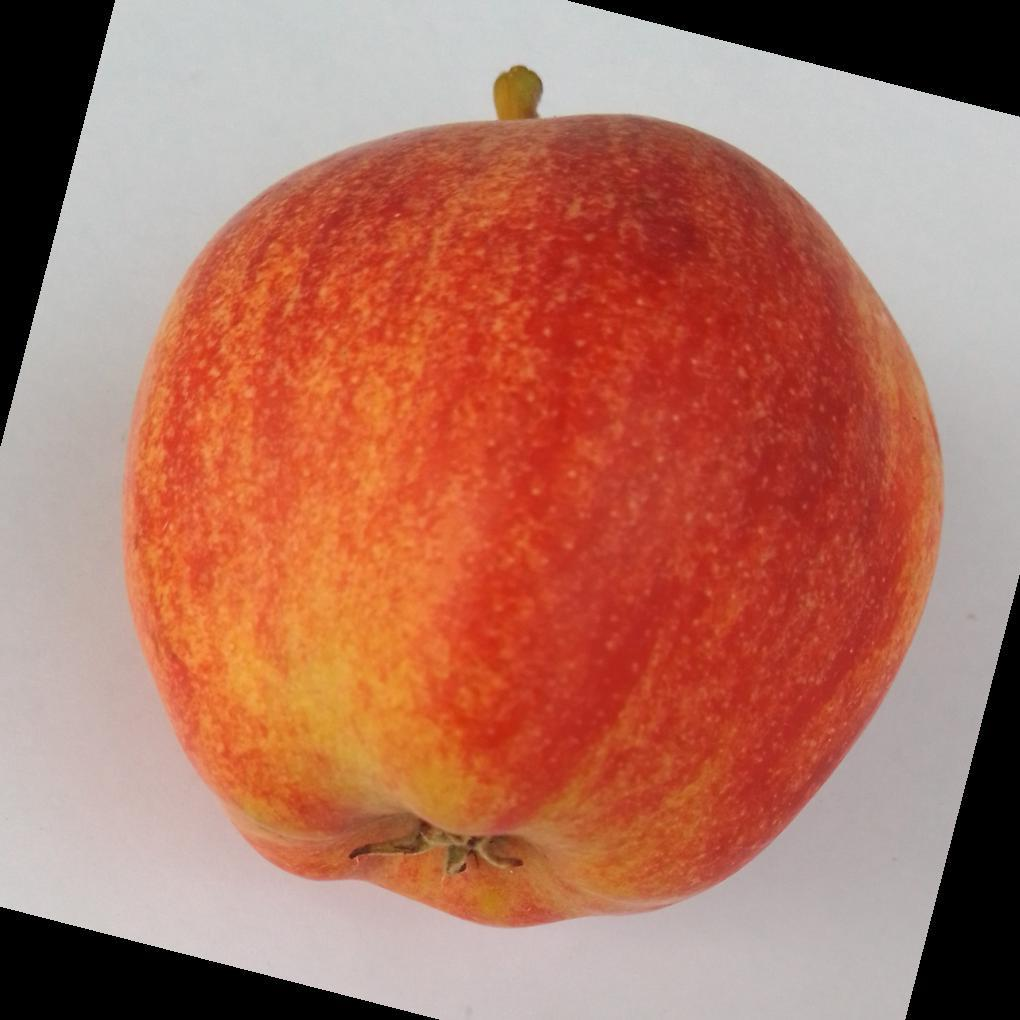FreshGuava: (120, 114, 945, 933)
